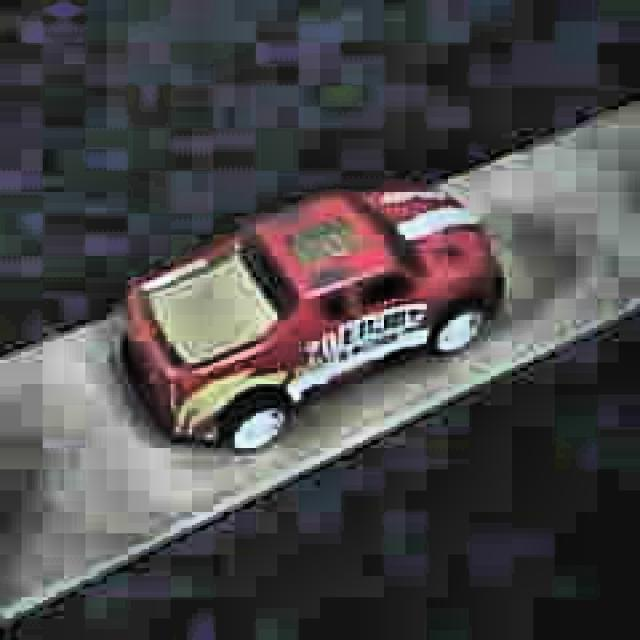car: (118, 181, 506, 456)
